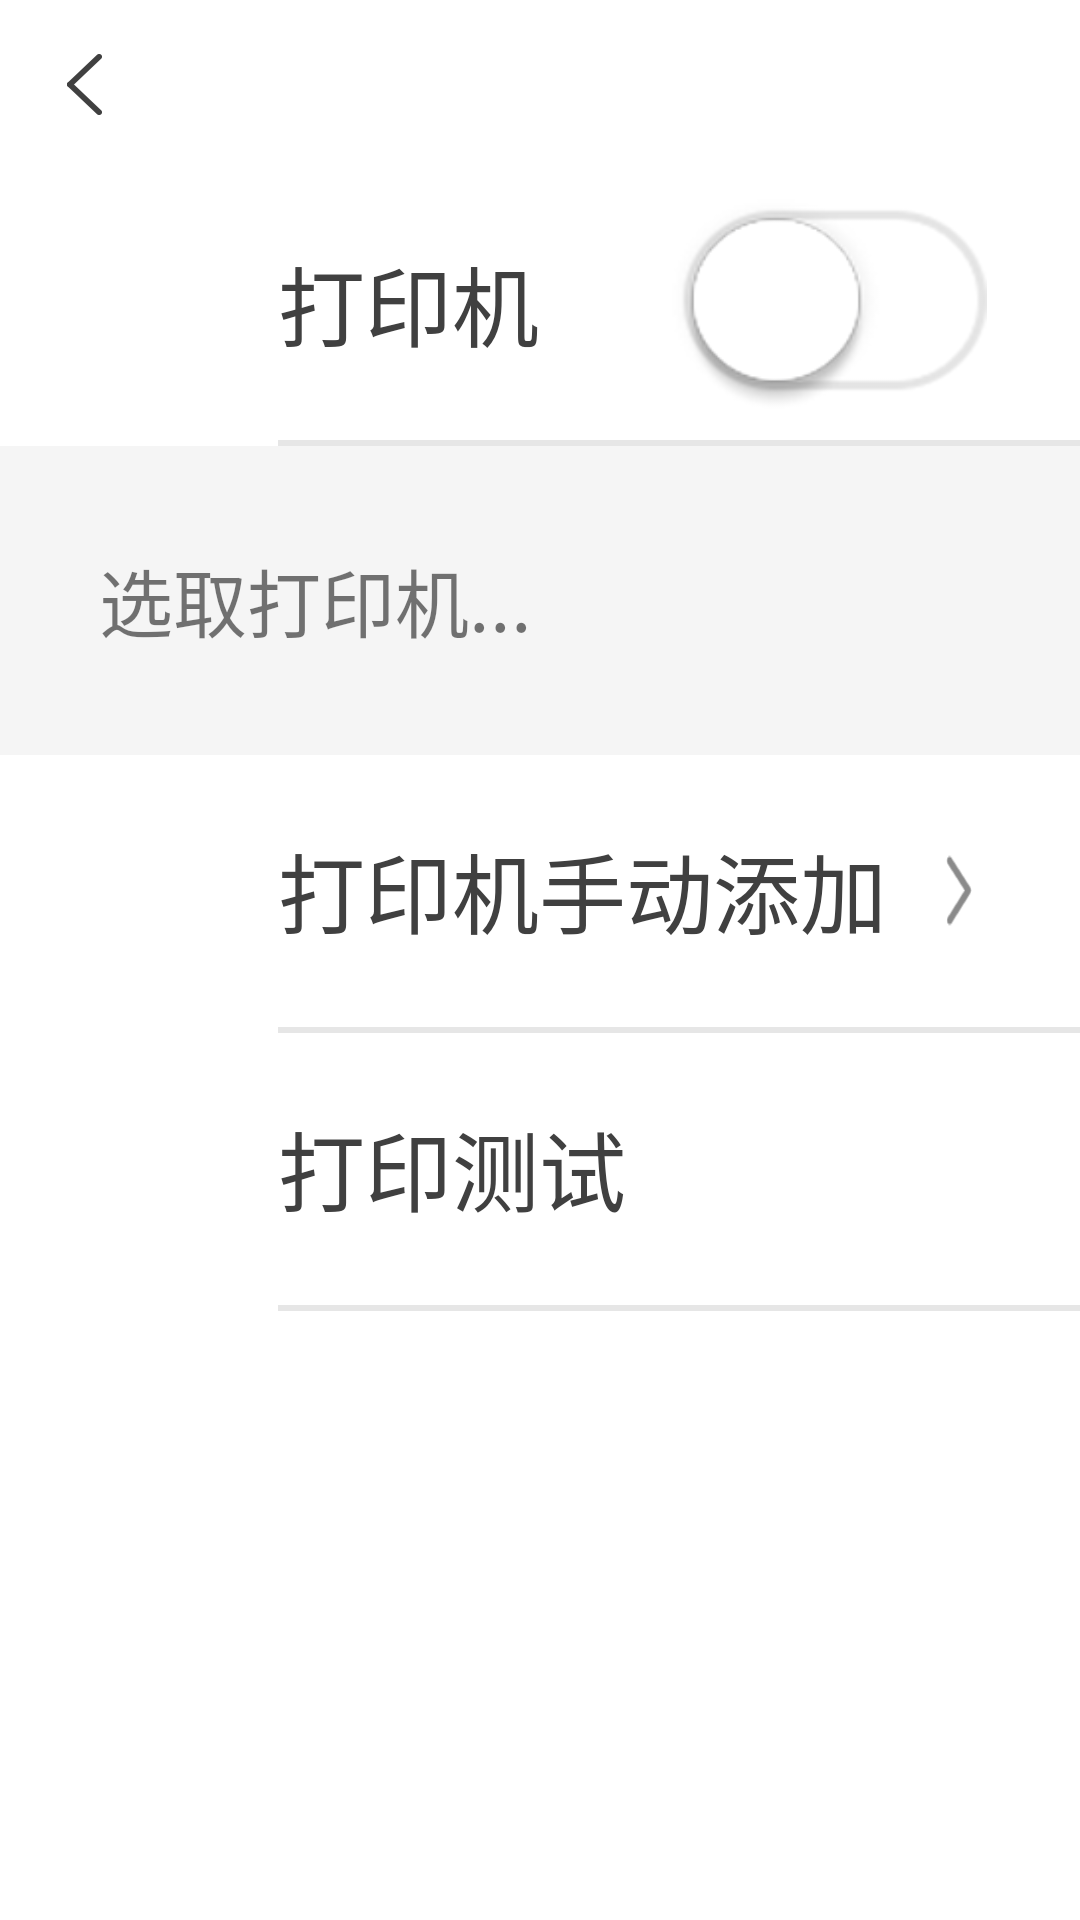

Where icons sit on this 1080 x 1920 app screen, as bbox=(x1, y1, x2, y2):
next: bbox=(947, 856, 971, 925)
printer switch select: bbox=(684, 211, 985, 397)
